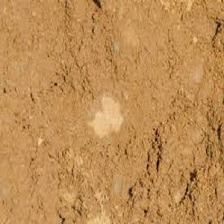sandy_soil: (15, 13, 212, 205)
